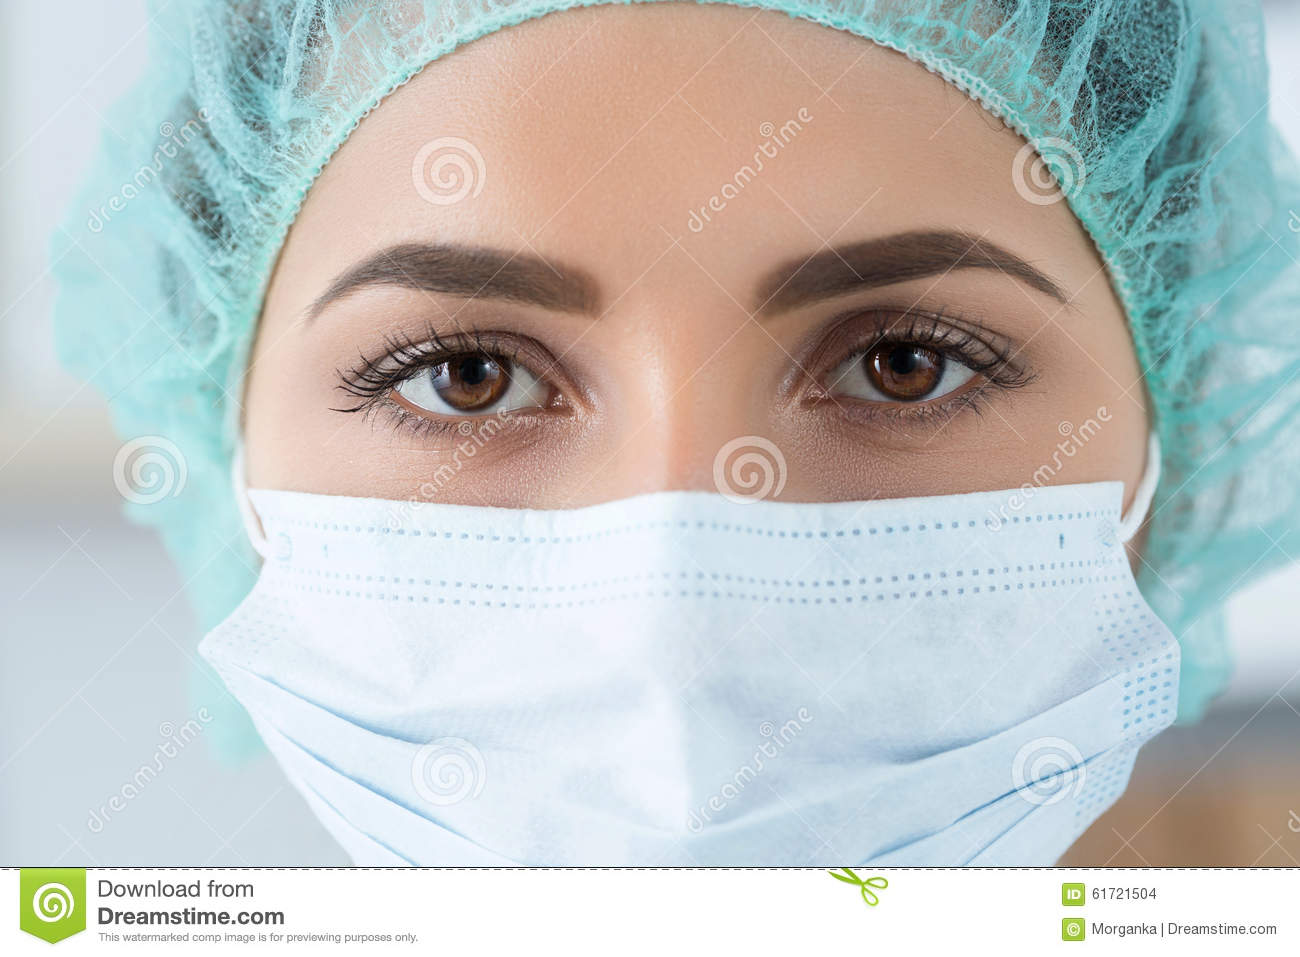mask: (197, 490, 1183, 862)
